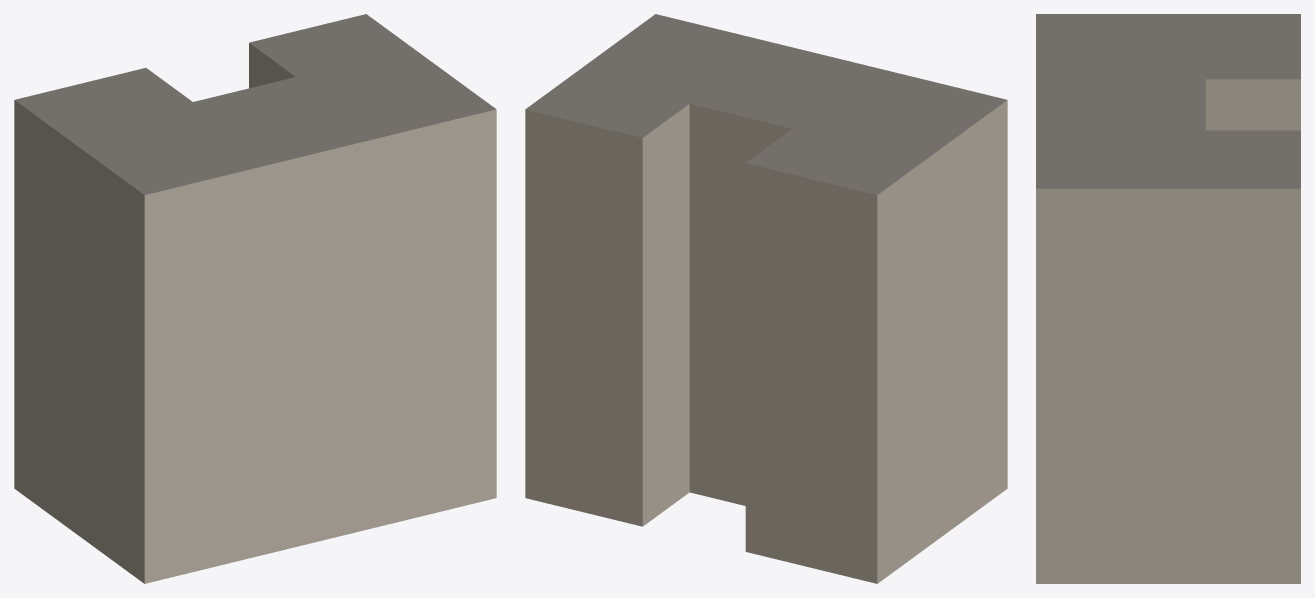
The picture shows the model from 3 angles, left to right: view 1: azimuth 30°, elevation 25°; view 2: azimuth 150°, elevation 25°; view 3: azimuth 270°, elevation 25°; orthographic projection.
Visible parts, largest first — view 1: HP-w858824338; view 2: HP-w858824338; view 3: HP-w858824338.
Part boxes in pixels (x1,y1,x2,y2): HP-w858824338: [14, 14, 496, 583]; HP-w858824338: [525, 14, 1007, 583]; HP-w858824338: [1036, 14, 1300, 583].
Bounding box in the file's own units: 17.06 × 18 × 10.93.
